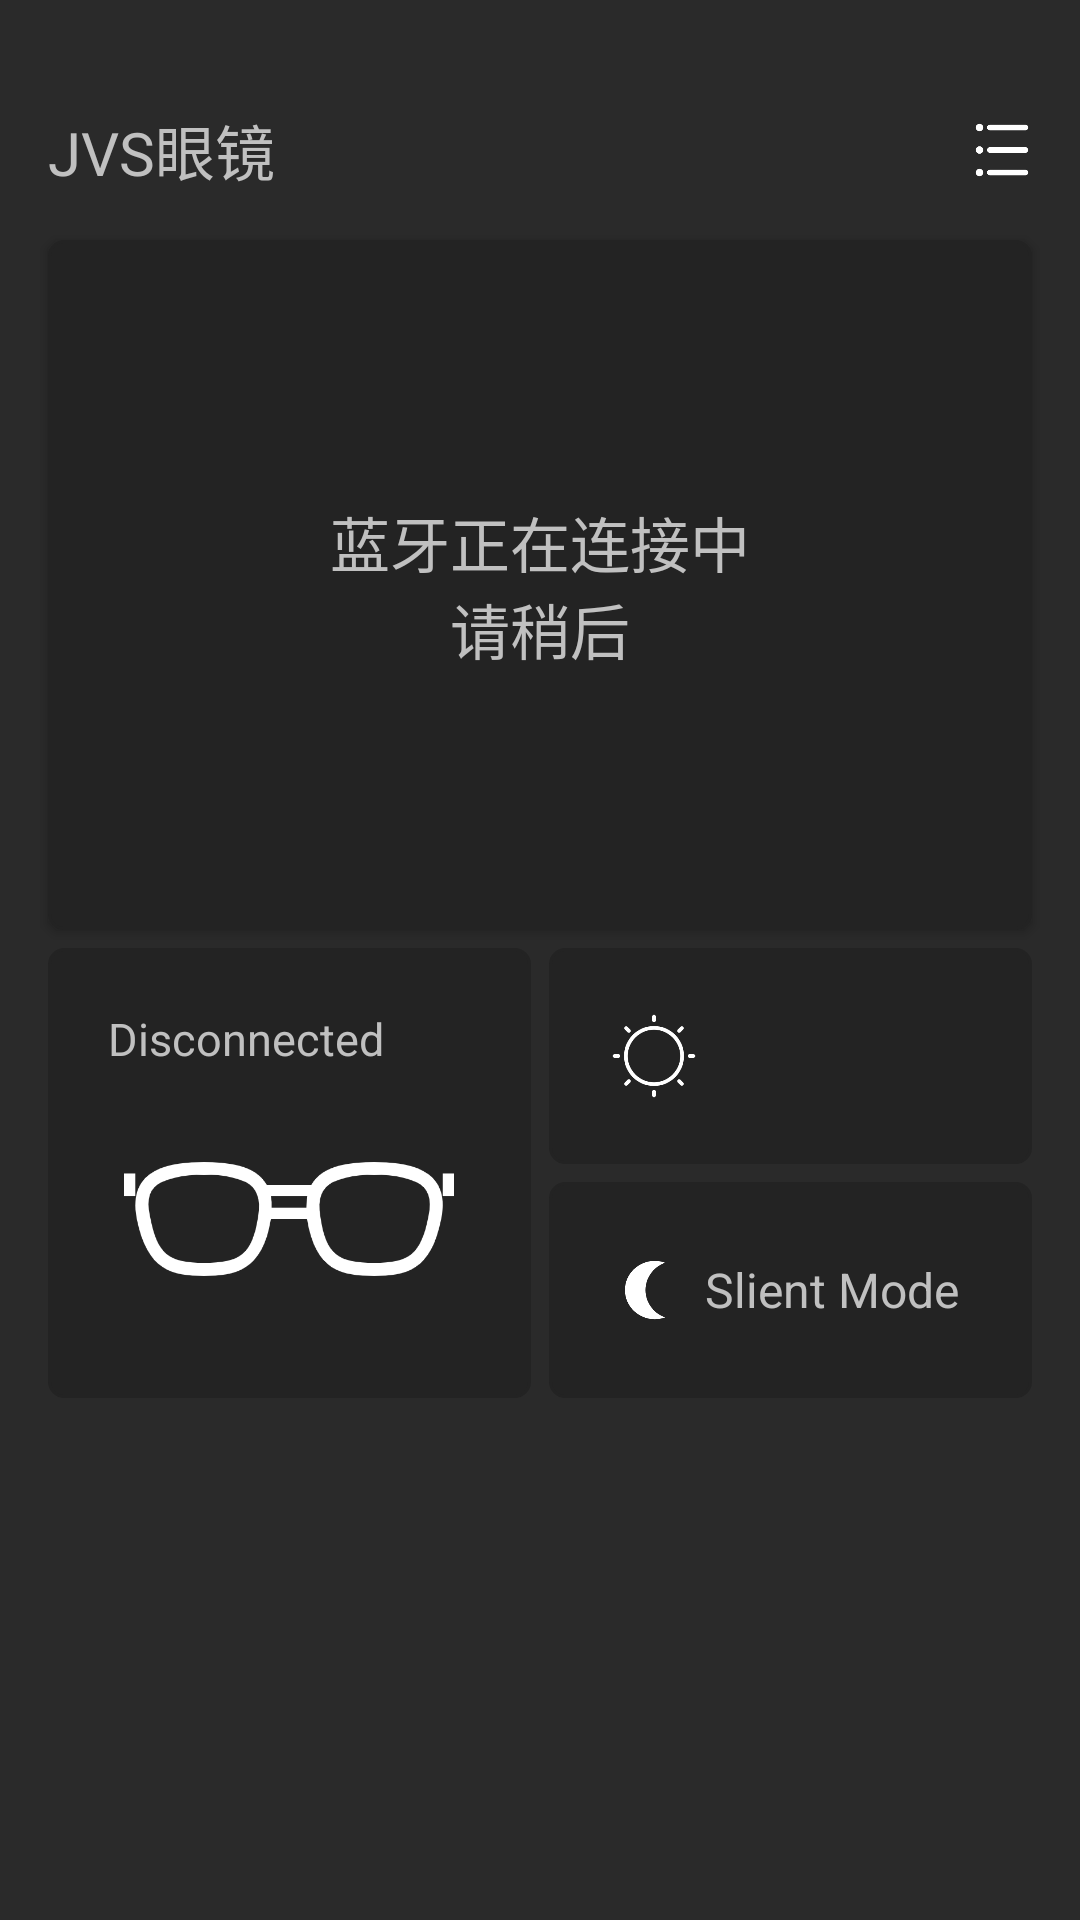

Where icons sit on this 1080px x 1920px app screen, as (x1, y1, x2, y2):
glasses: (124, 1162, 454, 1276)
